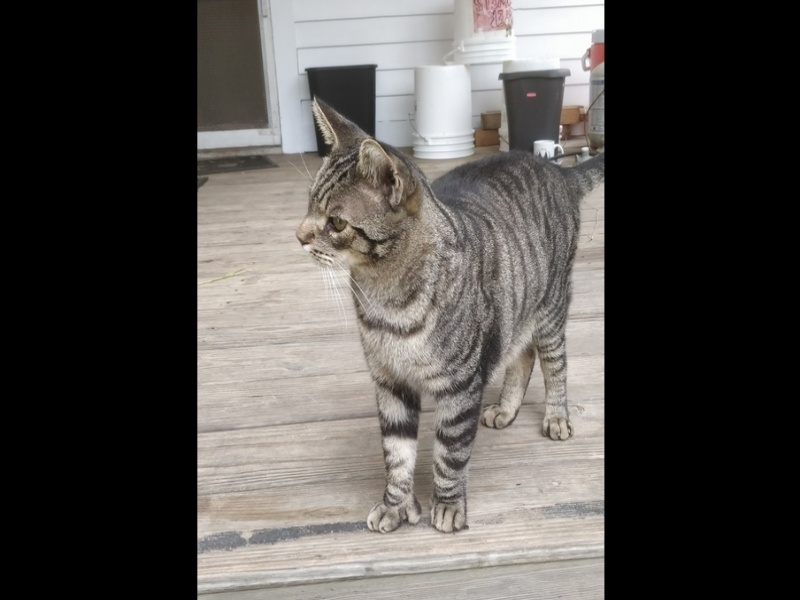cat: (289, 87, 604, 541)
